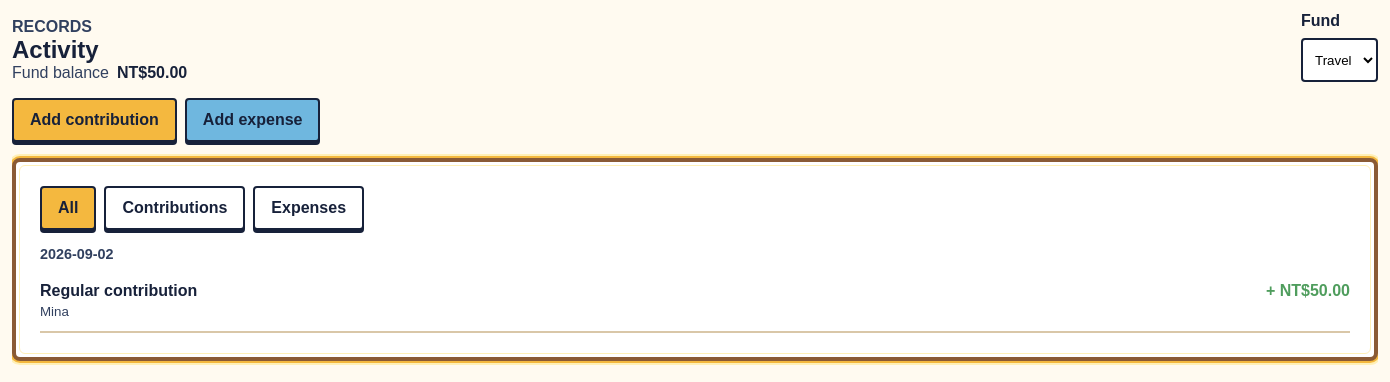
Test: ActivityPage › distinguishes a filtered empty result from an empty ledger
Step 1. Click the button "Expenses" → (309, 208), box [253,186,364,230]
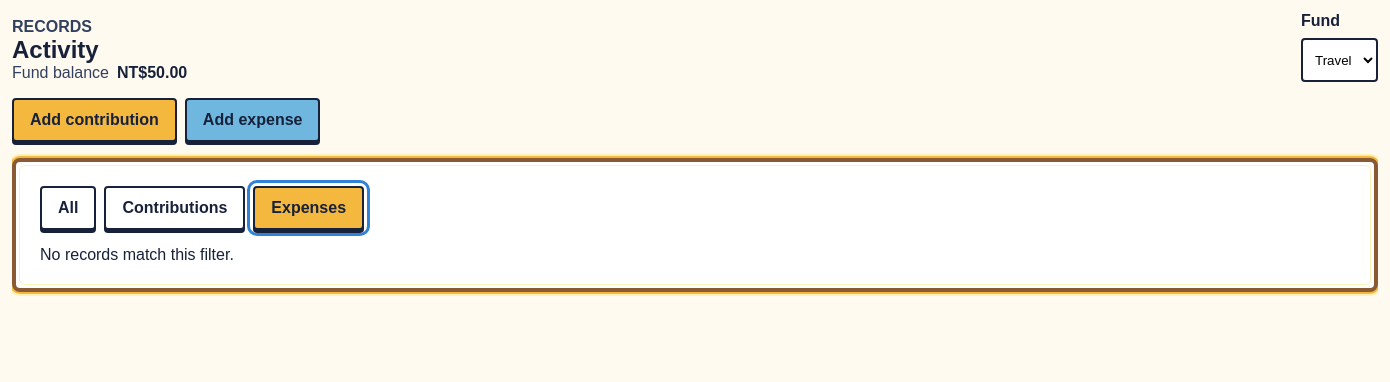
Result: the text "No records match this filter." is shown at [40,246,234,263]
